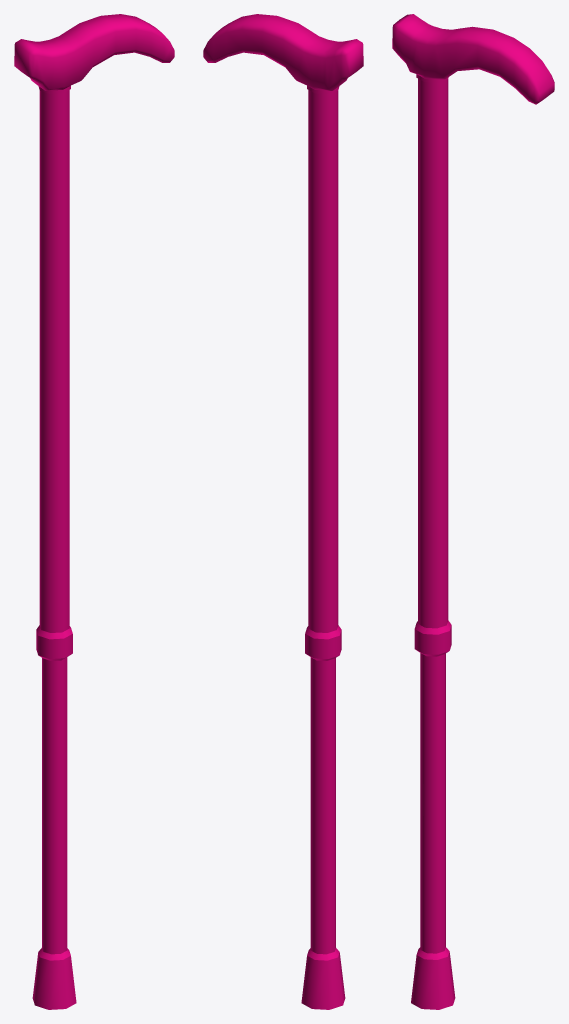
The model's file is Cane 1 mat.fbx.
The picture shows the model from 3 angles, left to right: view 1: azimuth 30°, elevation 25°; view 2: azimuth 150°, elevation 25°; view 3: azimuth 330°, elevation 25°; orthographic projection.
Parts seen in each view (by area): view 1: WalkingCane; view 2: WalkingCane; view 3: WalkingCane.
Part boxes in pixels (x1,y1,x2,y2): WalkingCane: (14, 14, 174, 1009); WalkingCane: (203, 14, 363, 1009); WalkingCane: (392, 14, 554, 1009).
Size of the model in its own units: 552 by 3483 by 148.
